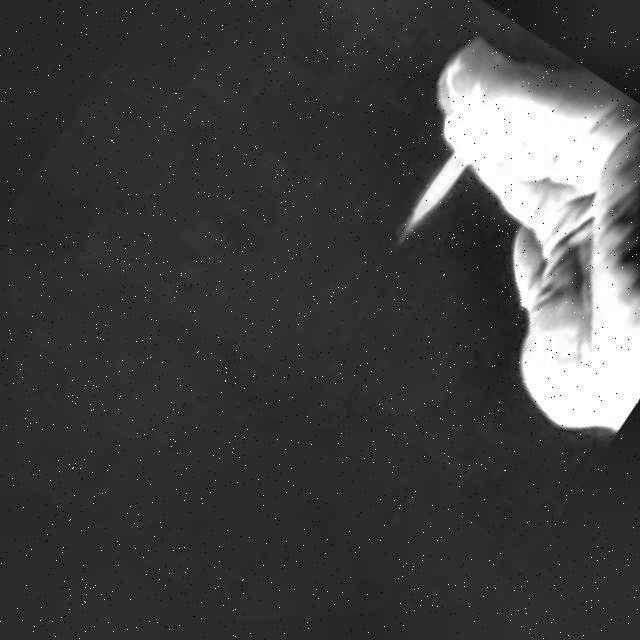Fire: (380, 130, 486, 261)
